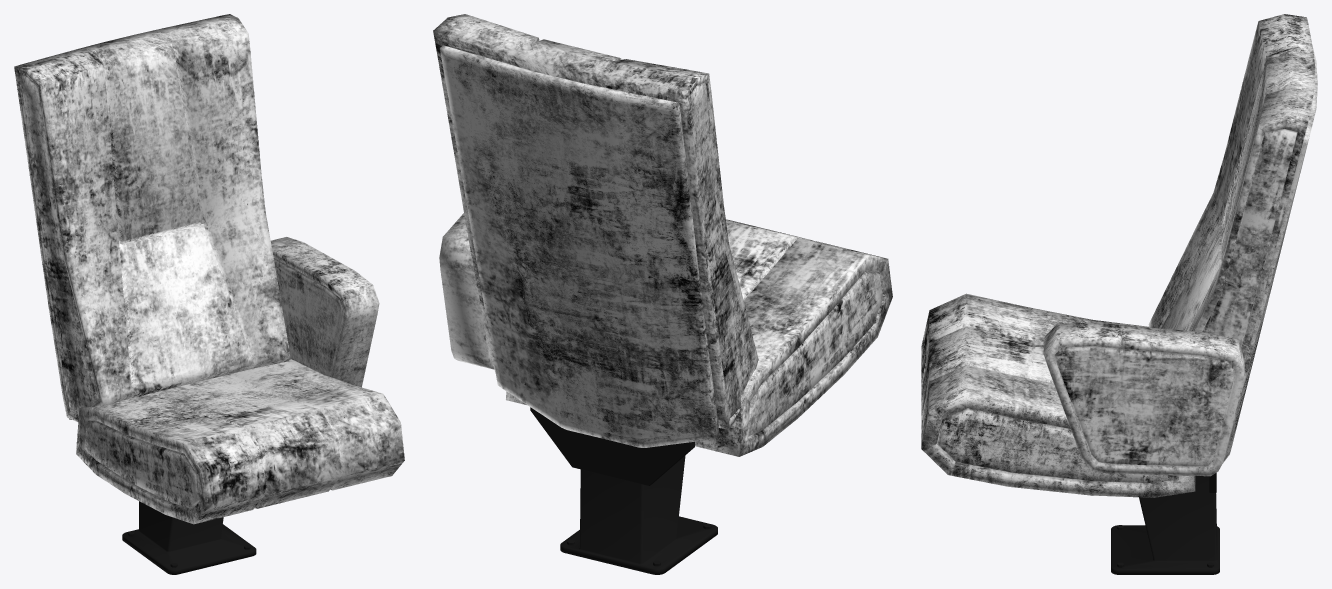
Rendered from theather-chair.glb.
3 renders of one model, left to right at view 1: azimuth 30°, elevation 25°; view 2: azimuth 150°, elevation 25°; view 3: azimuth 270°, elevation 25°, orthographic. The views are drawn at different scales.
Parts seen in each view (by area): view 1: Dossier, Assise, Accoudoir, Pied; view 2: Fond Dossier, Assise, Dossier, Pied, Accoudoir; view 3: Assise, Dossier, Accoudoir, Pied, Fond Dossier.
Boxes of the visible parts, x1=… form: Dossier: x1=14, y1=14, x2=290, y2=421; Assise: x1=76, y1=359, x2=404, y2=524; Accoudoir: x1=270, y1=237, x2=379, y2=387; Pied: x1=122, y1=501, x2=256, y2=574; Fond Dossier: x1=440, y1=45, x2=719, y2=447; Assise: x1=506, y1=219, x2=892, y2=456; Dossier: x1=433, y1=14, x2=758, y2=429; Pied: x1=530, y1=407, x2=723, y2=574; Accoudoir: x1=439, y1=213, x2=494, y2=369; Assise: x1=921, y1=293, x2=1195, y2=497; Dossier: x1=1148, y1=14, x2=1315, y2=363; Accoudoir: x1=1043, y1=322, x2=1244, y2=476; Pied: x1=1111, y1=473, x2=1219, y2=574; Fond Dossier: x1=1223, y1=47, x2=1317, y2=462.
Bounding box in the file's own units: 0.539 × 0.9886 × 0.7341.
2 materials, 1 textured.
